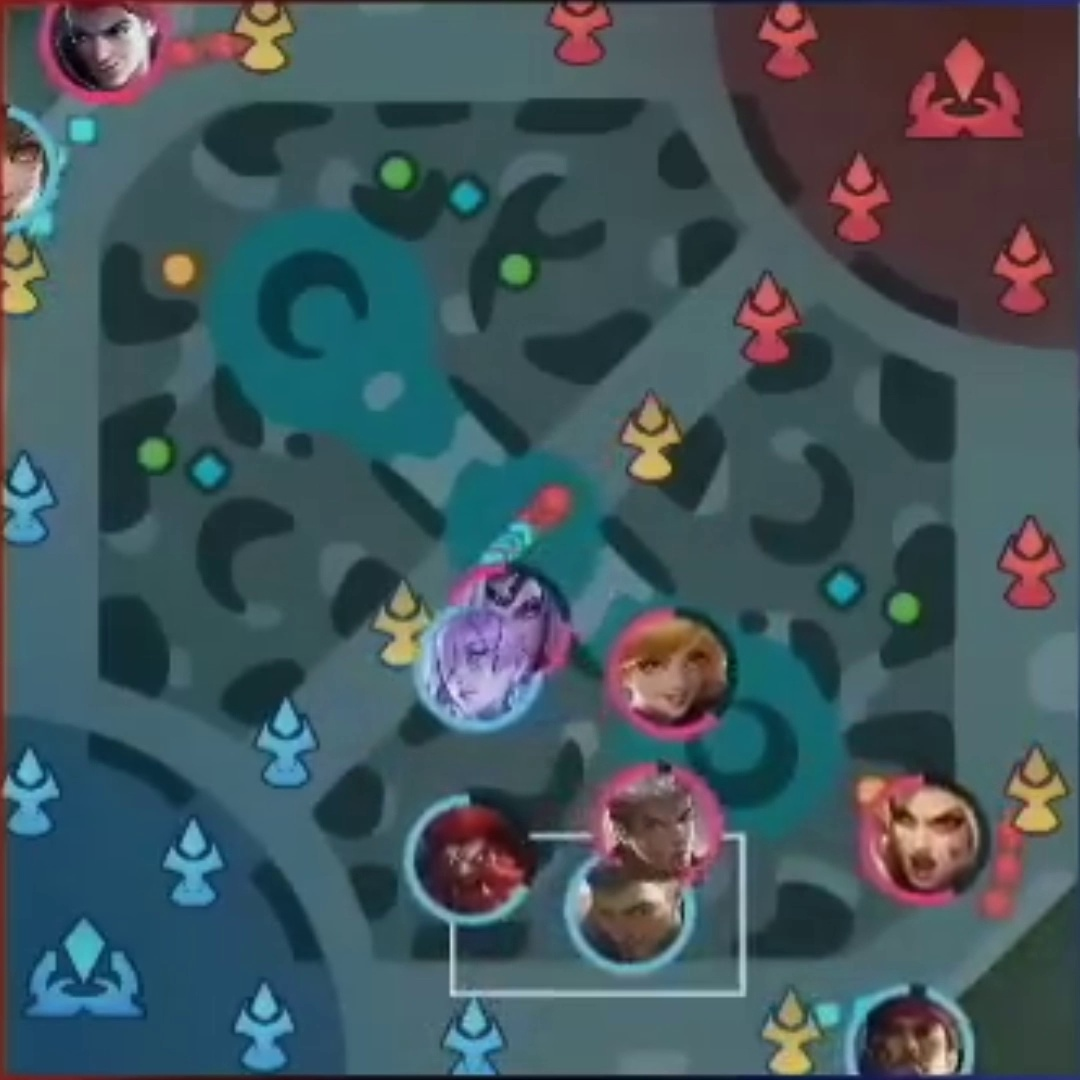Chou: (614, 778, 714, 874)
Claude: (44, 4, 168, 99)
Fanny: (623, 620, 721, 720)
Fredrinn: (573, 867, 679, 965)
Lapu-Lapu: (856, 993, 966, 1080)
Masha: (872, 784, 985, 894)
Minotaur: (418, 811, 525, 914)
Novaria: (426, 620, 537, 721)
Valentina: (476, 573, 564, 624)
Wanwan: (5, 114, 56, 224)
